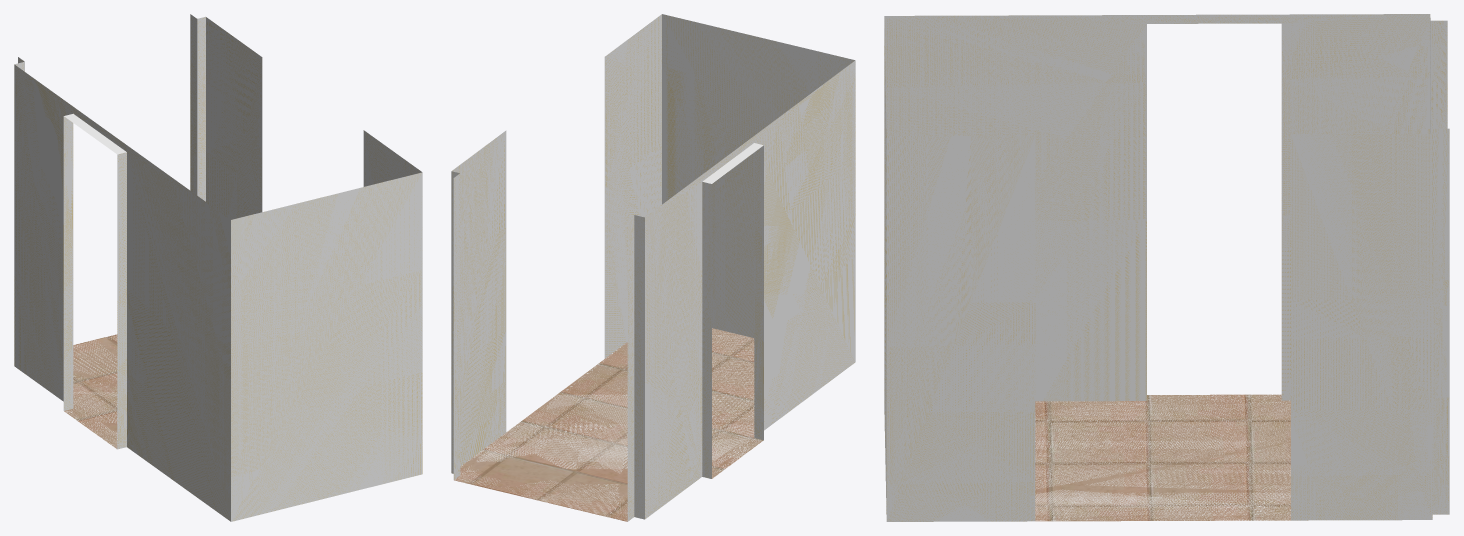
The model's file is COM028.obj.
The picture shows the model from 3 angles, left to right: view 1: azimuth 30°, elevation 25°; view 2: azimuth 150°, elevation 25°; view 3: azimuth 270°, elevation 25°; orthographic projection. The views are drawn at different scales.
Parts seen in each view (by area): view 1: Mesh1 COM028 Model; view 2: Mesh1 COM028 Model; view 3: Mesh1 COM028 Model.
Boxes of the visible parts, <box> form: Mesh1 COM028 Model: <box>14,14,422,521</box>; Mesh1 COM028 Model: <box>451,14,855,521</box>; Mesh1 COM028 Model: <box>884,14,1449,521</box>.
Bounding box in the file's own units: 2.12 × 3 × 3.98.
Materials: 3 (1 with a texture image).
